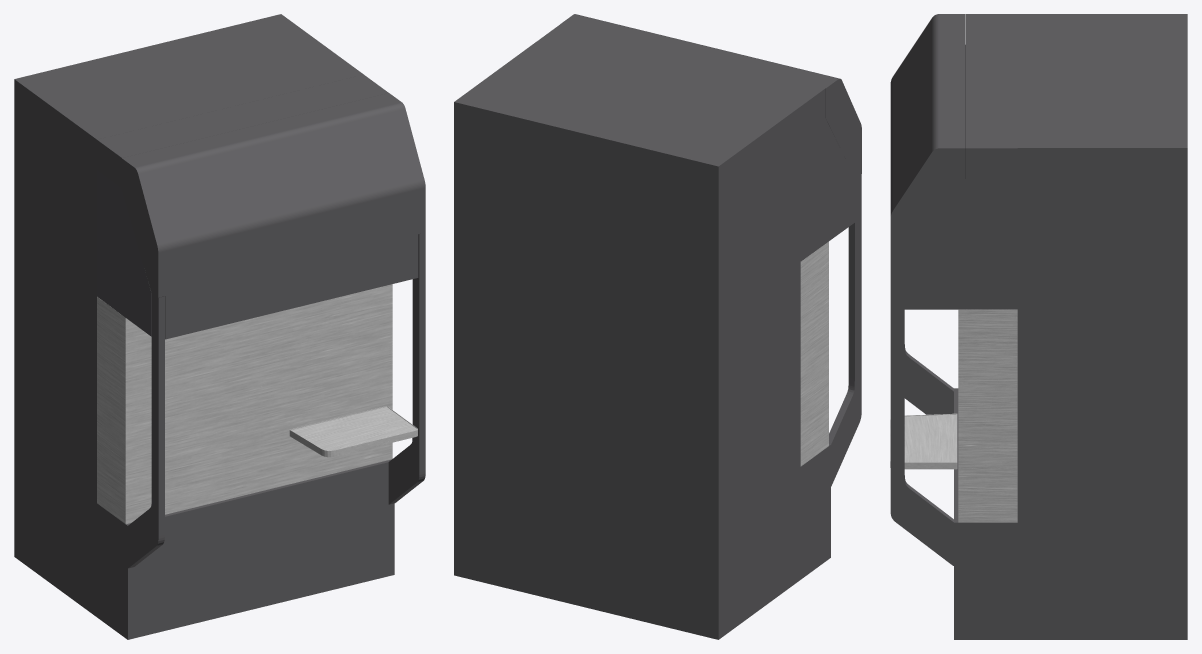
Rendered from IVXStation.glb.
The picture shows the model from 3 angles, left to right: view 1: azimuth 30°, elevation 25°; view 2: azimuth 150°, elevation 25°; view 3: azimuth 270°, elevation 25°; orthographic projection. The views are drawn at different scales.
Visible parts, largest first — view 1: Cube, Cube.001; view 2: Cube, Cube.001; view 3: Cube, Cube.001.
Boxes of the visible parts, bbox=[...] form: Cube: bbox=[14, 14, 425, 639]; Cube.001: bbox=[97, 284, 417, 524]; Cube: bbox=[454, 14, 861, 639]; Cube.001: bbox=[800, 241, 828, 466]; Cube: bbox=[890, 14, 1187, 639]; Cube.001: bbox=[890, 309, 1017, 522].
Size of the model in its own units: 1.29 by 2.2 by 1.21.
2 materials, 1 textured.
